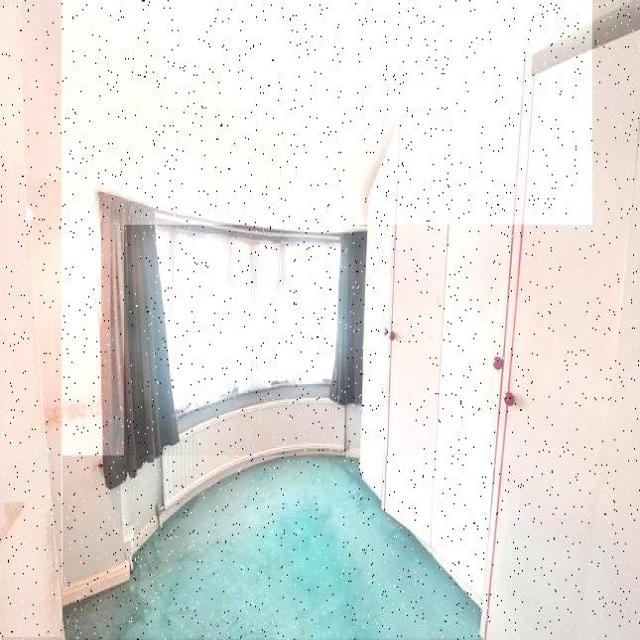Wall: (22, 0, 592, 225), (64, 457, 479, 639), (27, 178, 124, 588), (0, 0, 62, 637), (120, 459, 163, 551), (346, 405, 361, 458)
